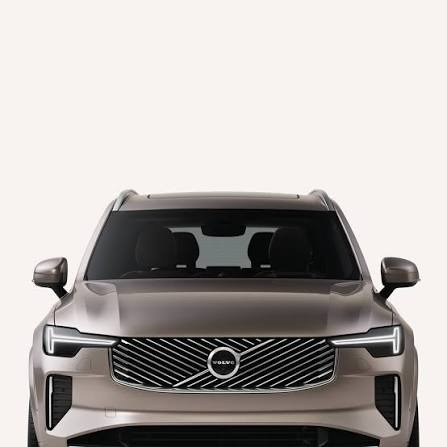car: (31, 192, 416, 440)
